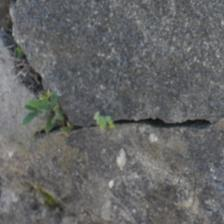Crack: (69, 108, 211, 153), (3, 4, 47, 91)
